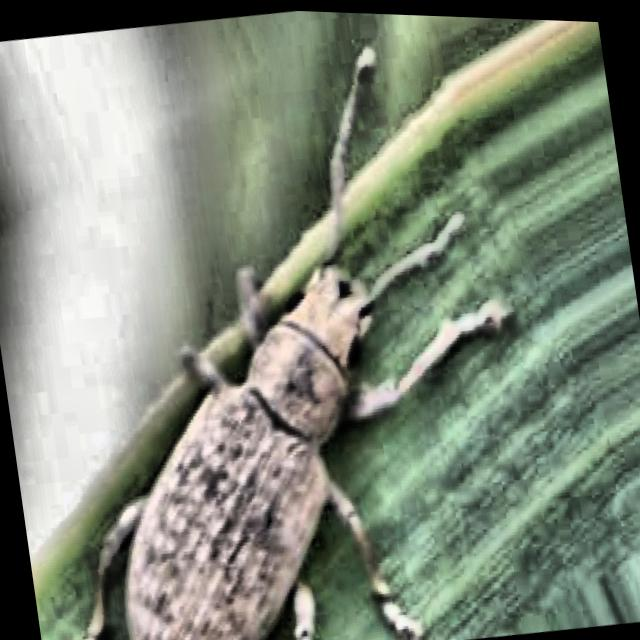Stink bug: (6, 55, 527, 640)
